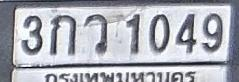0: (150, 13, 170, 53)
1: (126, 13, 140, 53)
3: (21, 14, 42, 54)
4: (176, 13, 196, 53)
9: (202, 13, 222, 52)
A01: (49, 14, 76, 55)
A37: (84, 13, 108, 53)
